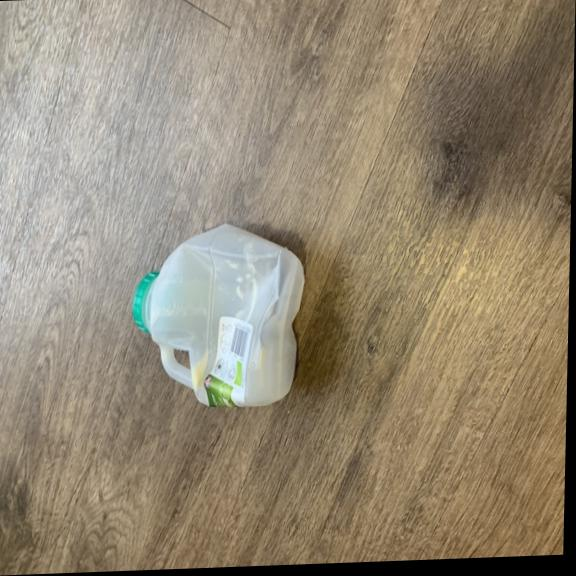Plastik: (132, 207, 310, 416)
